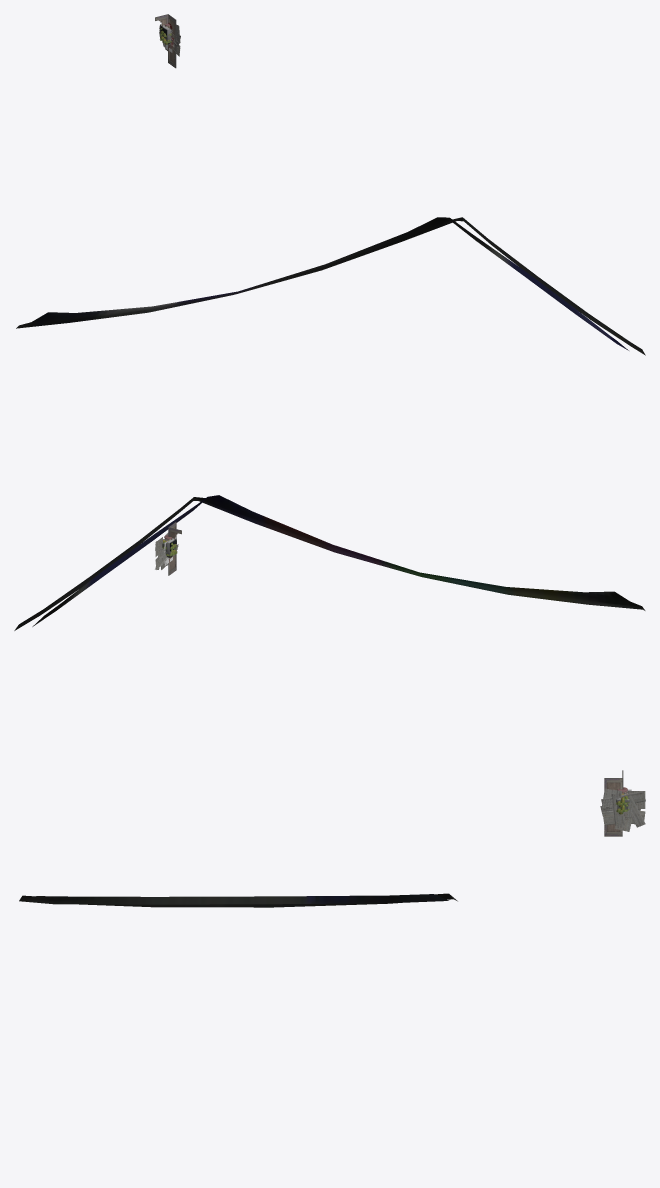
File: oasis_props.glb
3 renders of one model, top to bottom at view 1: azimuth 30°, elevation 25°; view 2: azimuth 150°, elevation 25°; view 3: azimuth 270°, elevation 25°, orthographic. The views are drawn at different scales.
Visible parts, largest first — view 1: skinmat:tvebstest; view 2: skinmat:tvebstest; view 3: skinmat:tvebstest.
Part boxes in pixels (x1=…): skinmat:tvebstest: x1=16, y1=217, x2=645, y2=355; skinmat:tvebstest: x1=14, y1=495, x2=645, y2=630; skinmat:tvebstest: x1=19, y1=893, x2=457, y2=907.
Size of the model in its own units: 27.91 by 14.04 by 27.99.
Materials: 43 (42 with a texture image).
